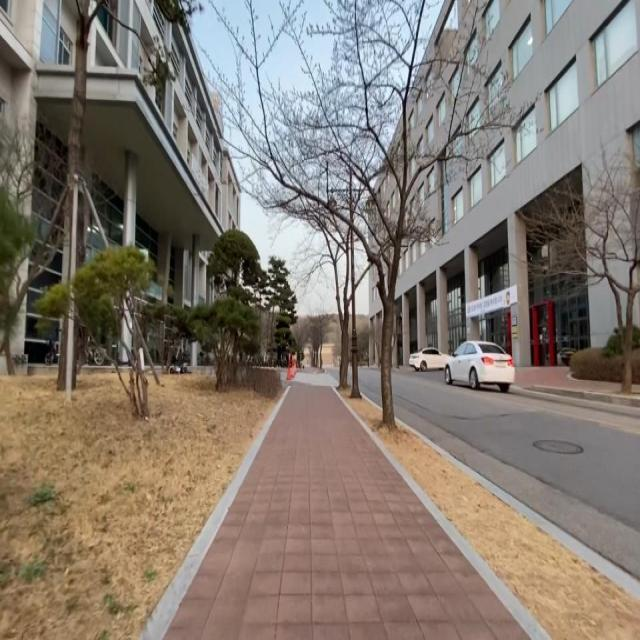sidewalk: (163, 381, 531, 640), (515, 367, 622, 395), (630, 385, 640, 398)
